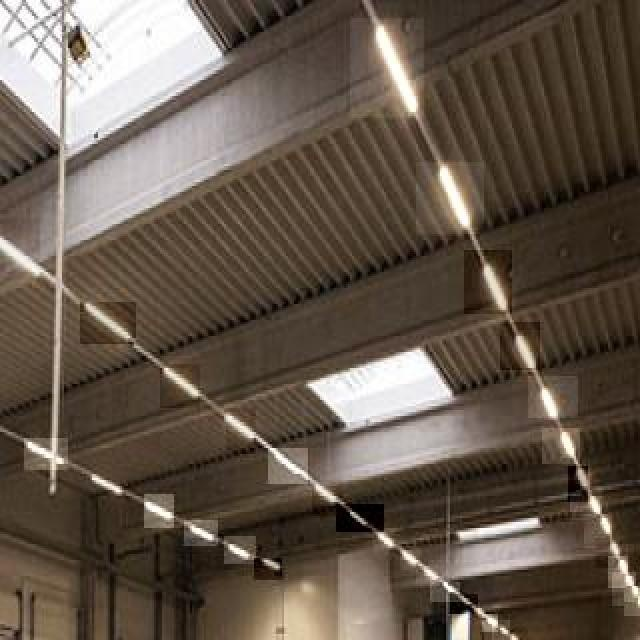fluorescent tube: (0, 216, 44, 290), (151, 360, 218, 407), (73, 294, 135, 334), (135, 485, 178, 540), (78, 457, 133, 499), (542, 422, 589, 469), (500, 331, 540, 384), (267, 444, 311, 489), (522, 376, 565, 420), (216, 397, 251, 447), (480, 255, 513, 307), (18, 438, 71, 469), (212, 525, 252, 563), (184, 509, 218, 546), (344, 502, 372, 536), (432, 580, 464, 605), (400, 546, 424, 577), (578, 489, 602, 518), (263, 557, 285, 579)
